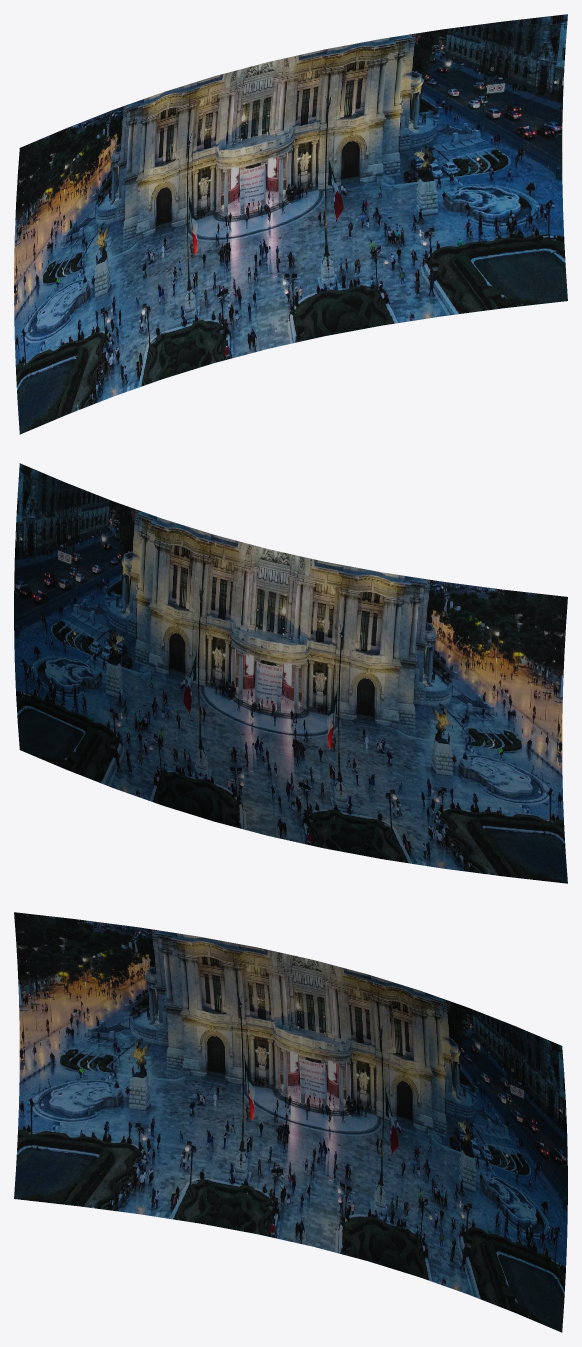
File: C_Bellas_Artes.fbx
3 renders of one model, top to bottom at view 1: azimuth 30°, elevation 25°; view 2: azimuth 150°, elevation 25°; view 3: azimuth 330°, elevation 25°, orthographic.
Parts seen in each view (by area): view 1: pPlane1; view 2: pPlane1; view 3: pPlane1.
Boxes of the visible parts, <box> form: pPlane1: <box>14,14,567,434</box>; pPlane1: <box>14,463,567,883</box>; pPlane1: <box>14,912,567,1332</box>.
Bounding box in the file's own units: 400 × 200 × 42.49.
Materials: 1 (1 with a texture image).
